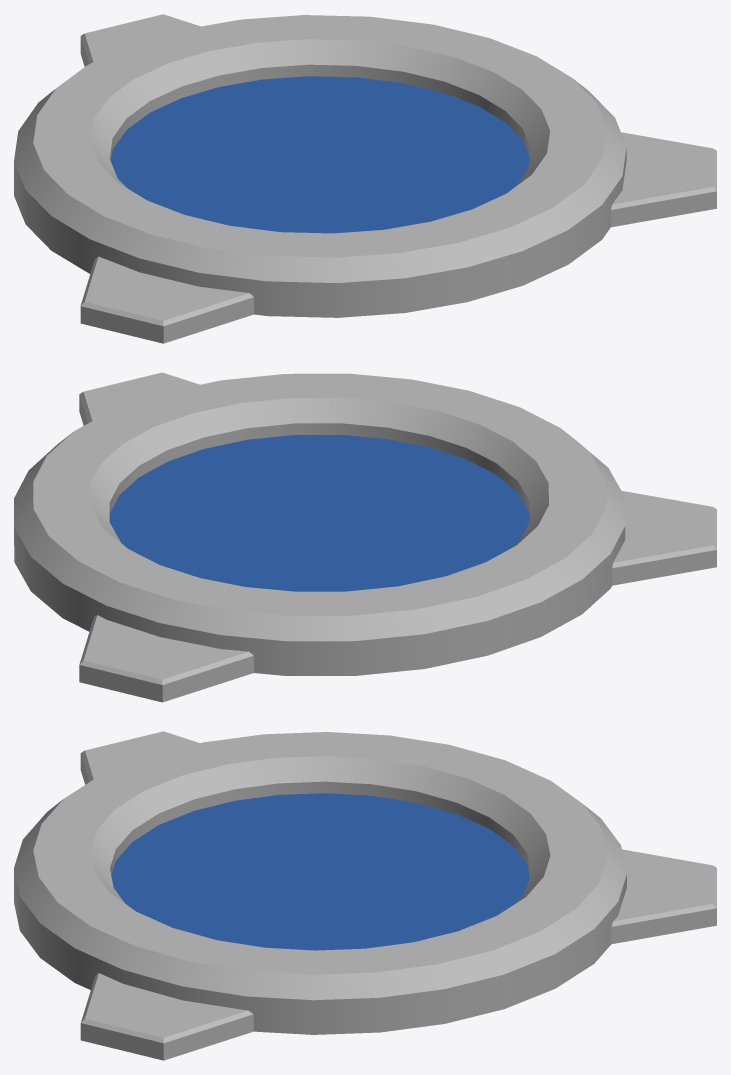
Rendered from power_station.FBX.
3 views of the same model, one above another, from view 1: azimuth 30°, elevation 25°; view 2: azimuth 150°, elevation 25°; view 3: azimuth 270°, elevation 25° (orthographic).
Visible parts, largest first — view 1: base, light; view 2: base, light; view 3: base, light.
Boxes of the visible parts, left/top/right/bottom form: base: left=14, top=14, right=716, bottom=343; light: left=111, top=76, right=529, bottom=233; base: left=14, top=372, right=716, bottom=702; light: left=109, top=435, right=529, bottom=591; base: left=14, top=731, right=716, bottom=1060; light: left=111, top=793, right=529, bottom=950.
Size of the model in its own units: 192 by 15 by 183.
